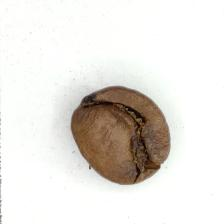NG: (85, 98, 155, 178)
